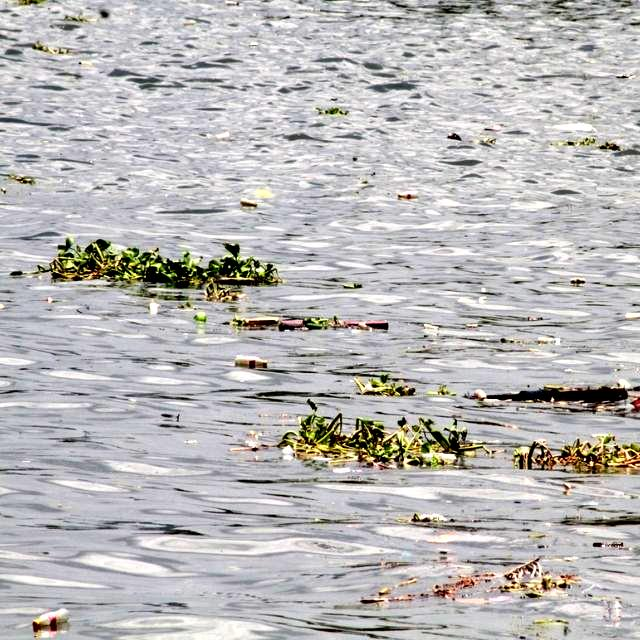plastic bottle: (34, 605, 69, 632), (234, 355, 267, 368)
water-hyacinth: (36, 235, 284, 289), (282, 411, 492, 469), (469, 375, 636, 413)
